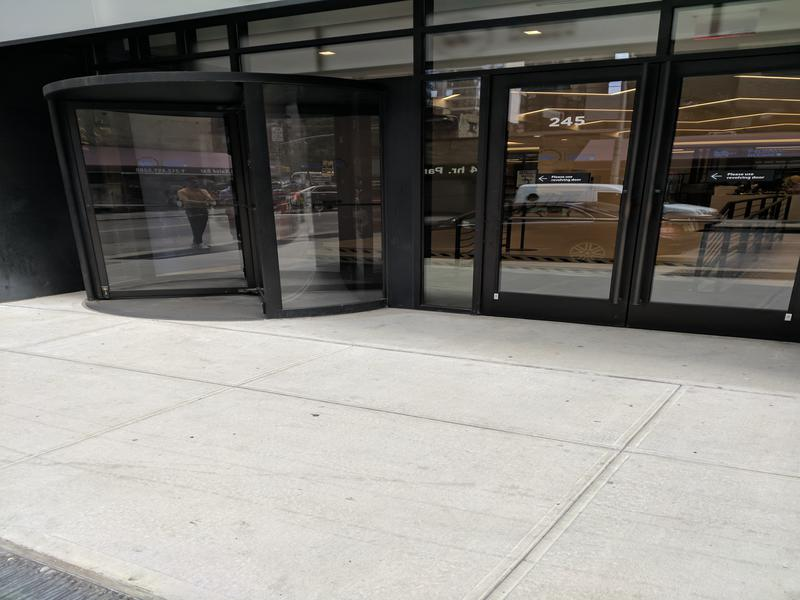double_door: (484, 65, 800, 329)
revolving_door: (37, 72, 407, 318)
